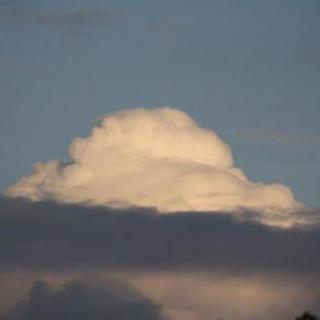Cumulus: (8, 106, 320, 320)
